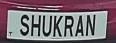A: (75, 14, 85, 39)
H: (31, 14, 42, 39)
K: (52, 15, 61, 39)
R: (64, 15, 75, 38)
S: (19, 13, 31, 38)
U: (42, 14, 53, 38)
V: (86, 13, 98, 38)
